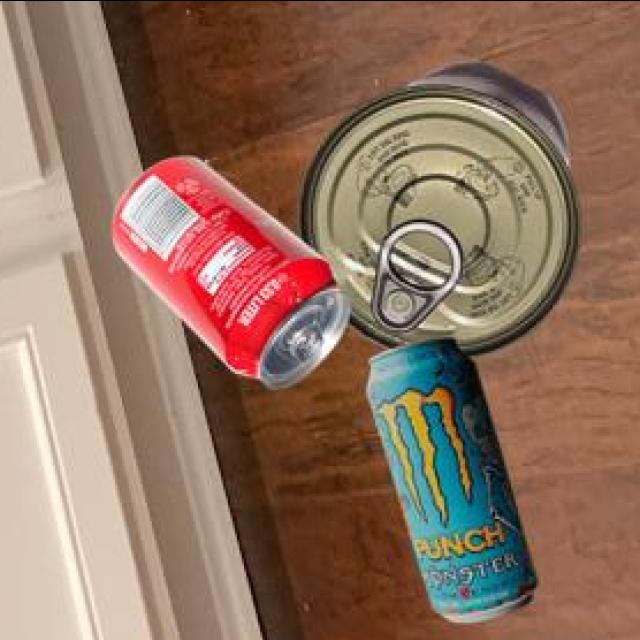logam: (296, 63, 577, 360), (109, 160, 346, 390), (363, 342, 535, 625)
